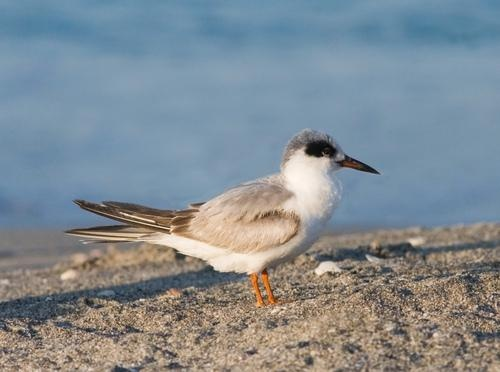bird: (72, 128, 383, 306)
